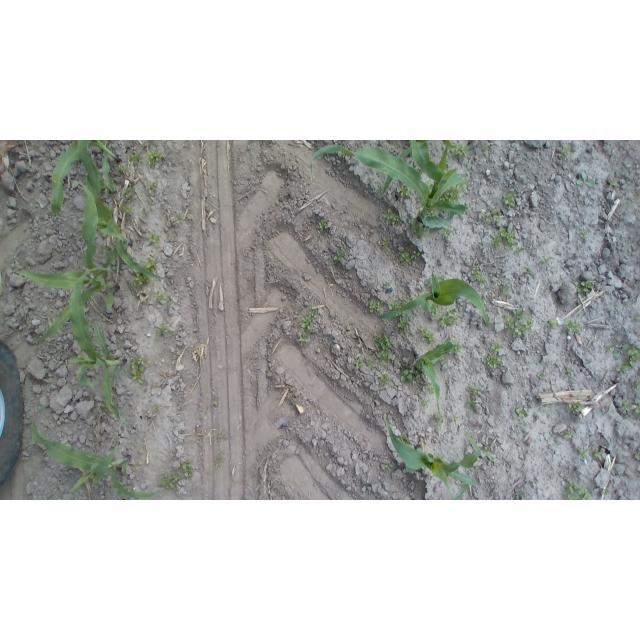Maize: (13, 181, 124, 340), (309, 140, 470, 232), (78, 141, 166, 280), (67, 266, 136, 427), (29, 420, 159, 500), (381, 416, 481, 490), (377, 271, 492, 330), (49, 140, 115, 214), (418, 339, 459, 414), (383, 140, 427, 193), (449, 484, 470, 500)
Weeds: (504, 308, 532, 337), (374, 332, 395, 364), (438, 181, 467, 204), (492, 227, 518, 250), (564, 480, 592, 500), (129, 356, 148, 385), (398, 243, 422, 264), (408, 218, 430, 240), (416, 325, 438, 345), (160, 473, 182, 491), (623, 342, 640, 364), (441, 310, 460, 329), (383, 208, 402, 227), (400, 365, 420, 383), (300, 309, 316, 331), (100, 178, 117, 197), (152, 292, 172, 308), (577, 171, 595, 188), (141, 256, 157, 275), (562, 319, 583, 333), (132, 271, 150, 287), (397, 312, 410, 333), (617, 361, 636, 375), (451, 143, 470, 157), (483, 208, 502, 222), (379, 372, 394, 388), (128, 150, 144, 164), (146, 149, 162, 163), (368, 299, 384, 313), (471, 267, 485, 283), (485, 355, 501, 369), (334, 244, 347, 261), (148, 232, 161, 249), (424, 276, 443, 287), (576, 280, 593, 292), (181, 460, 193, 477), (428, 302, 441, 317), (466, 385, 482, 397), (145, 180, 156, 197), (433, 412, 444, 429), (503, 191, 516, 205), (156, 325, 169, 338), (298, 331, 309, 346), (491, 344, 506, 355), (463, 163, 472, 181), (124, 188, 137, 200), (465, 400, 477, 413), (388, 300, 402, 311), (446, 346, 462, 355), (399, 184, 411, 196), (440, 228, 452, 240), (367, 360, 378, 373), (396, 434, 409, 445), (568, 402, 581, 413), (119, 203, 133, 213), (579, 447, 590, 459), (425, 382, 435, 394), (516, 407, 528, 417), (563, 145, 572, 158), (486, 447, 494, 461), (562, 430, 576, 438), (549, 319, 560, 329), (354, 359, 364, 370), (539, 255, 550, 265), (422, 396, 430, 409), (380, 239, 390, 249), (592, 449, 602, 459), (36, 404, 48, 412), (481, 299, 488, 312), (566, 367, 575, 377), (318, 221, 328, 230), (117, 164, 127, 173), (623, 403, 634, 411), (482, 144, 489, 156), (426, 210, 438, 217), (175, 213, 182, 224), (426, 183, 433, 194), (635, 401, 640, 416), (376, 187, 384, 196), (103, 245, 112, 253), (537, 372, 545, 380), (581, 231, 590, 238), (609, 179, 618, 186), (524, 268, 531, 277), (123, 487, 133, 493), (609, 344, 616, 352), (384, 463, 392, 470), (437, 354, 445, 361), (406, 296, 413, 304), (451, 415, 460, 421), (615, 353, 622, 360), (634, 451, 640, 459), (516, 492, 525, 497), (136, 238, 145, 243), (154, 404, 159, 413), (385, 281, 392, 287), (634, 316, 640, 322), (445, 160, 448, 172), (502, 288, 508, 294), (600, 490, 607, 495), (214, 403, 221, 408), (426, 476, 431, 482), (520, 245, 525, 251)
